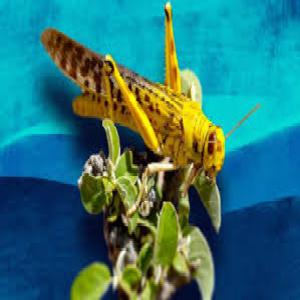locust: (39, 10, 229, 181)
